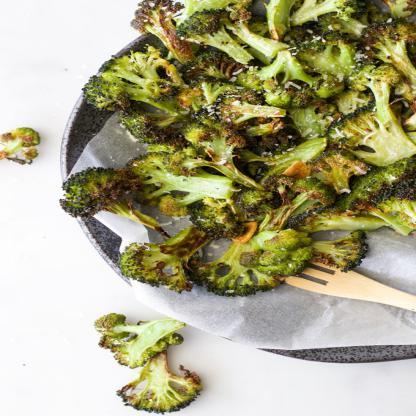broccoli: (56, 0, 416, 296)
